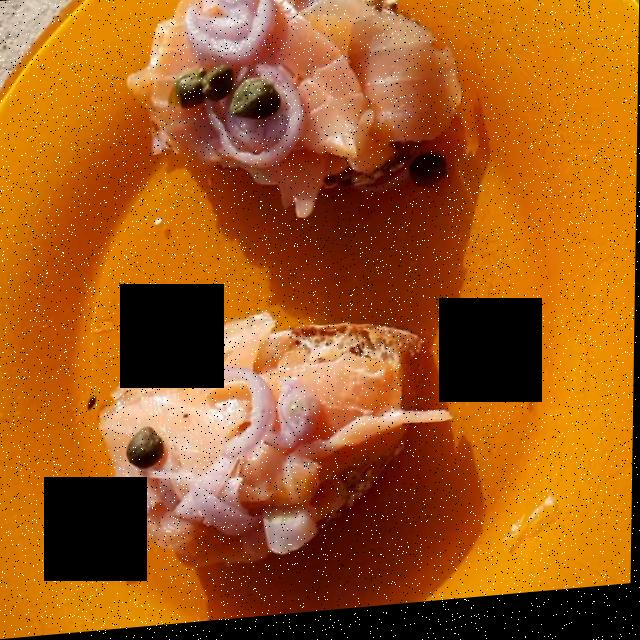bread-wholemeal: (130, 0, 458, 393)
capers: (116, 60, 460, 480)
salmon-smoked: (70, 0, 460, 559)
